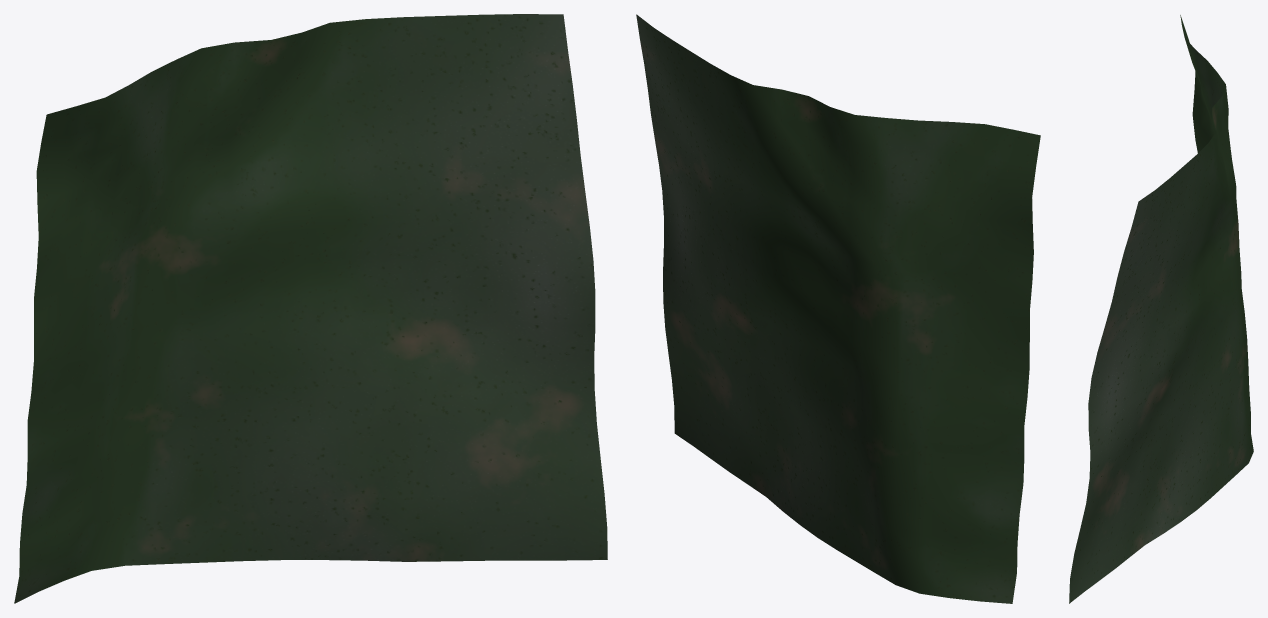
Rendered from terrain_far_05_05.obj.
3 renders of one model, left to right at view 1: azimuth 30°, elevation 25°; view 2: azimuth 150°, elevation 25°; view 3: azimuth 270°, elevation 25°, orthographic. The views are drawn at different scales.
Visible parts, largest first — view 1: terrain_far_05_05; view 2: terrain_far_05_05; view 3: terrain_far_05_05.
Boxes of the visible parts, box(x1,y1,x2,y2) form: terrain_far_05_05: box(14, 14, 607, 603); terrain_far_05_05: box(636, 14, 1040, 603); terrain_far_05_05: box(1069, 15, 1253, 603).
Bounding box in the file's own units: 640 × 640 × 266.
Materials: 1 (1 with a texture image).
